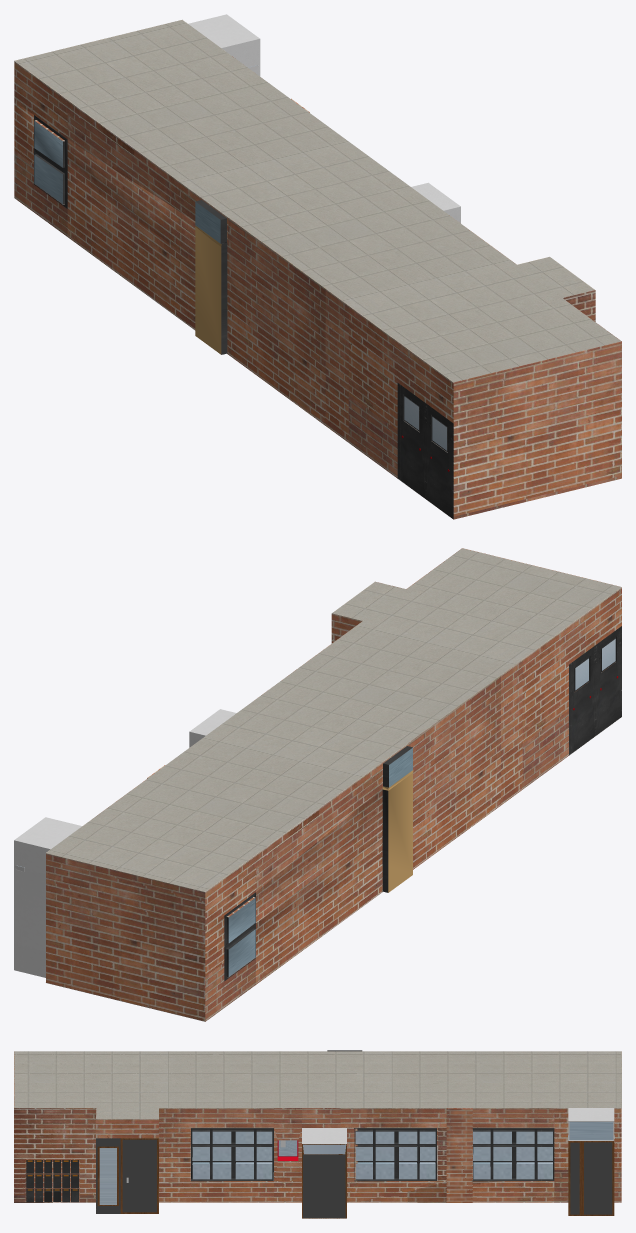
File: pasillo_final.fbx
3 views of the same model, one above another, from view 1: azimuth 30°, elevation 25°; view 2: azimuth 150°, elevation 25°; view 3: azimuth 270°, elevation 25° (orthographic). The views are drawn at different scales.
Parts seen in each view (by area): view 1: techo.001, patrd, puerta_escalera, puerta3, ventanaultima, puerta1, puerta2; view 2: techo.001, patrd, puerta1, puerta_escalera, puerta3, ventanaultima, puerta2; view 3: techo.001, patrd, puerta1, pared5, Aula.001, Aula.003, Aula.002, puerta2, Cube.005, lockers, puertas.001.
Part boxes in pixels (x1,y1,x2,y2): techo.001: (14,19,621,382); patrd: (14,20,621,519); puerta_escalera: (397,383,453,519); puerta3: (195,200,227,354); ventanaultima: (34,115,67,208); puerta1: (188,14,260,76); puerta2: (411,182,460,223); techo.001: (45,548,621,892); patrd: (46,548,621,1021); puerta1: (14,817,81,977); puerta_escalera: (569,626,621,755); puerta3: (382,746,413,892); ventanaultima: (224,892,255,980); puerta2: (189,709,236,747); techo.001: (14,1051,621,1119); patrd: (14,1052,621,1209); puerta1: (568,1108,614,1215); pared5: (96,1138,158,1213); Aula.001: (191,1128,273,1181); Aula.003: (354,1128,436,1181); Aula.002: (472,1128,554,1181); puerta2: (302,1128,346,1218); Cube.005: (446,1108,472,1202); lockers: (14,1160,78,1202); puertas.001: (277,1140,298,1160).
Bounding box in the file's own units: 593 × 351 × 2035.
